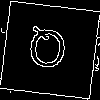Q: (25, 25, 69, 78)
